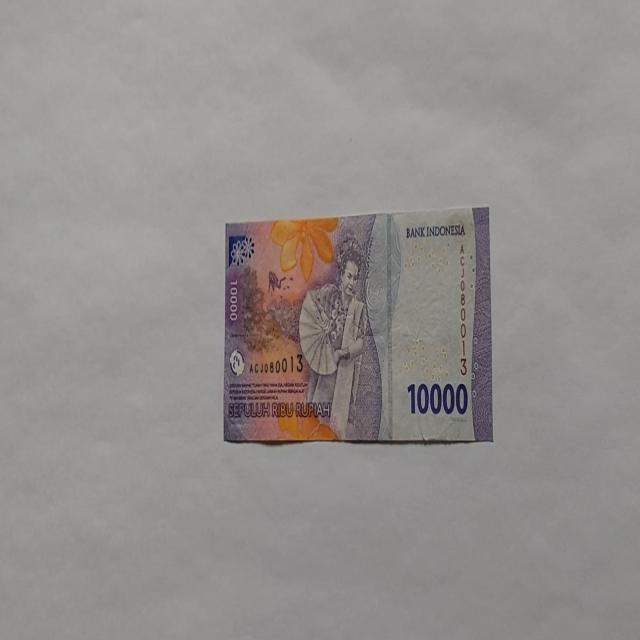sepuluh ribu rupiah: (223, 206, 492, 444), (298, 230, 382, 440)
